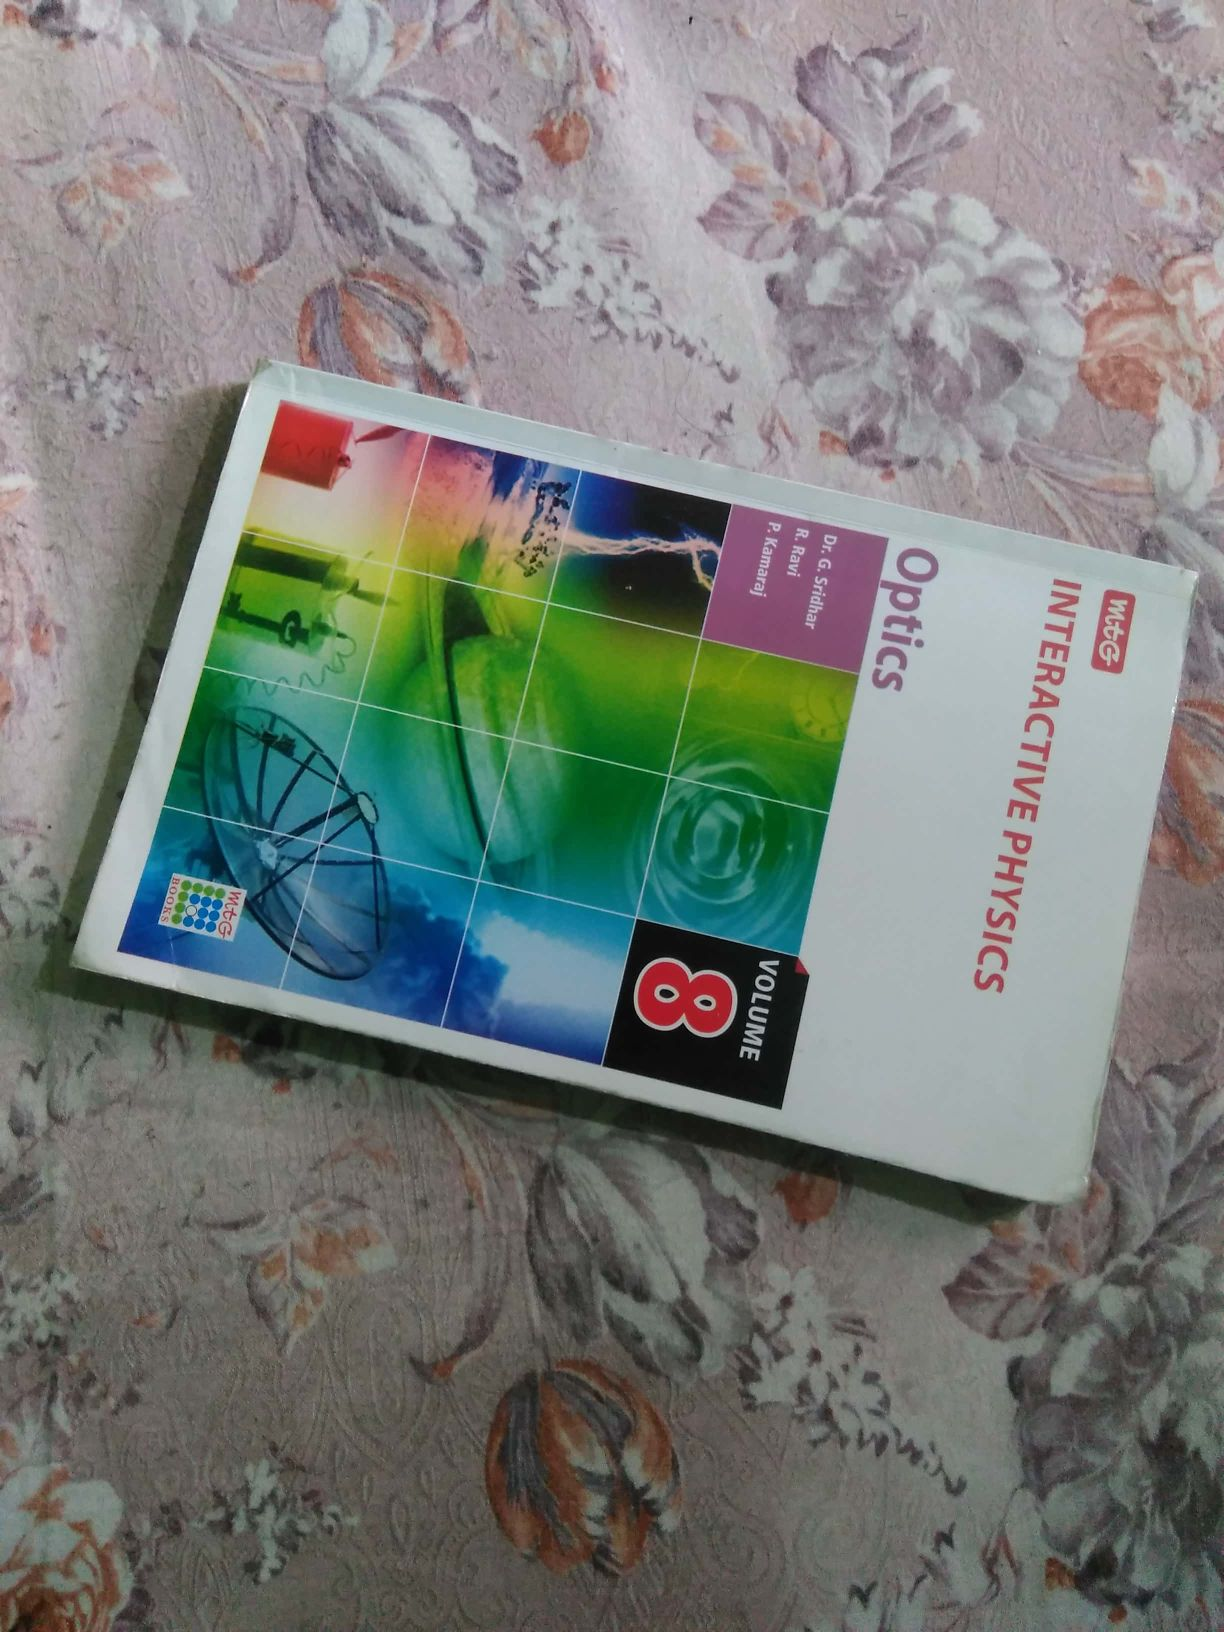optics: (117, 321, 1207, 1255)
